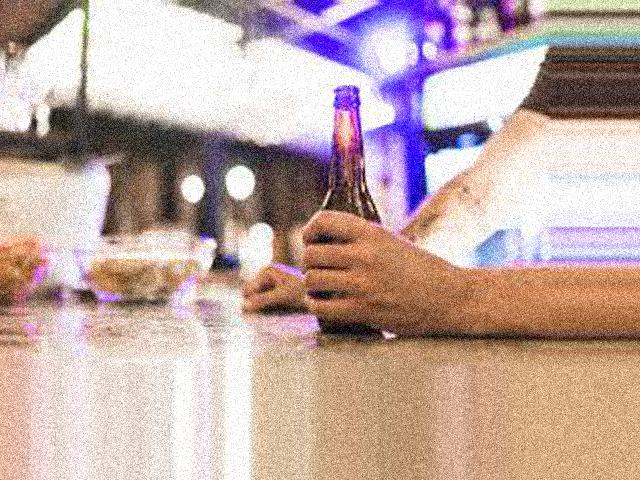beer: (318, 85, 380, 333)
